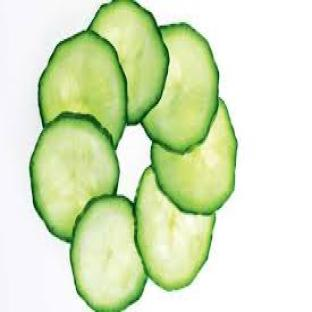Cucumber: (30, 113, 119, 242), (39, 31, 127, 146), (151, 101, 237, 214), (143, 24, 218, 153), (136, 168, 215, 289), (71, 197, 146, 311)
